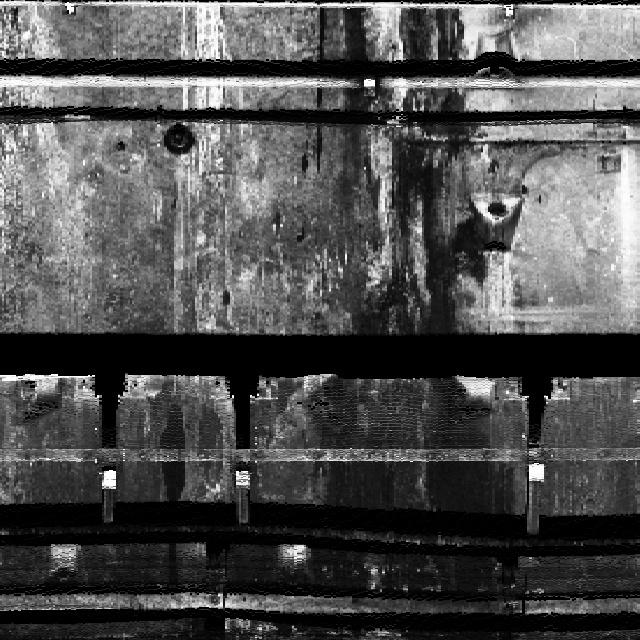leakage: (309, 4, 503, 331), (294, 370, 517, 520), (149, 389, 190, 503)
